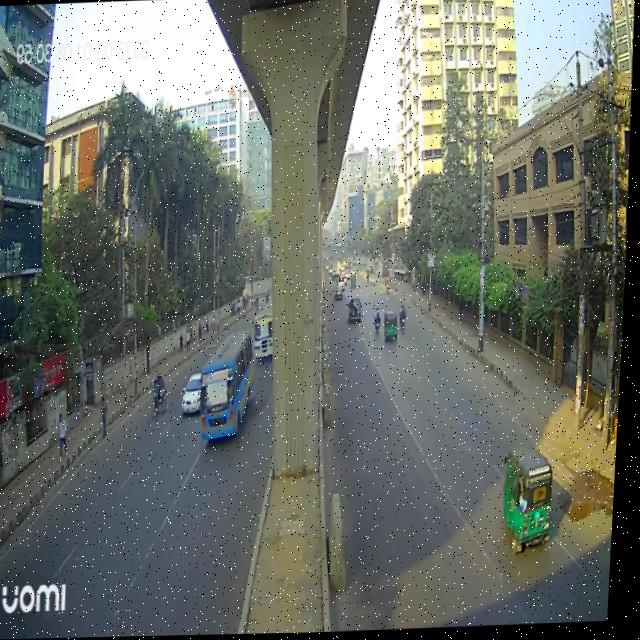cng: (502, 442, 567, 559), (382, 309, 404, 356)
rikshaw: (153, 368, 172, 423)
